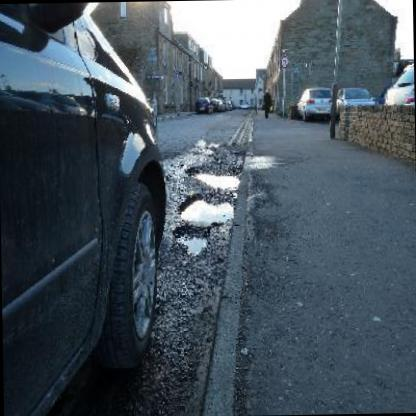pothole: (178, 192, 236, 224), (185, 162, 242, 193), (173, 225, 211, 256)
